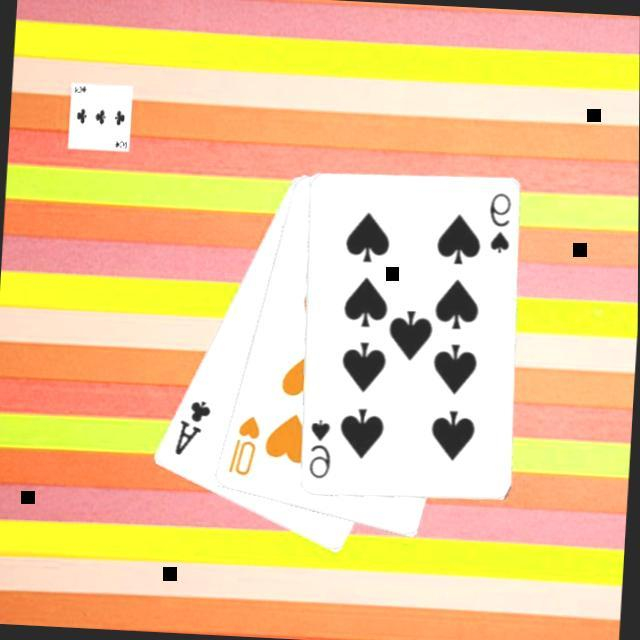10H: (224, 411, 262, 479)
9S: (303, 415, 335, 482), (482, 188, 513, 256)
AC: (169, 395, 213, 459)
